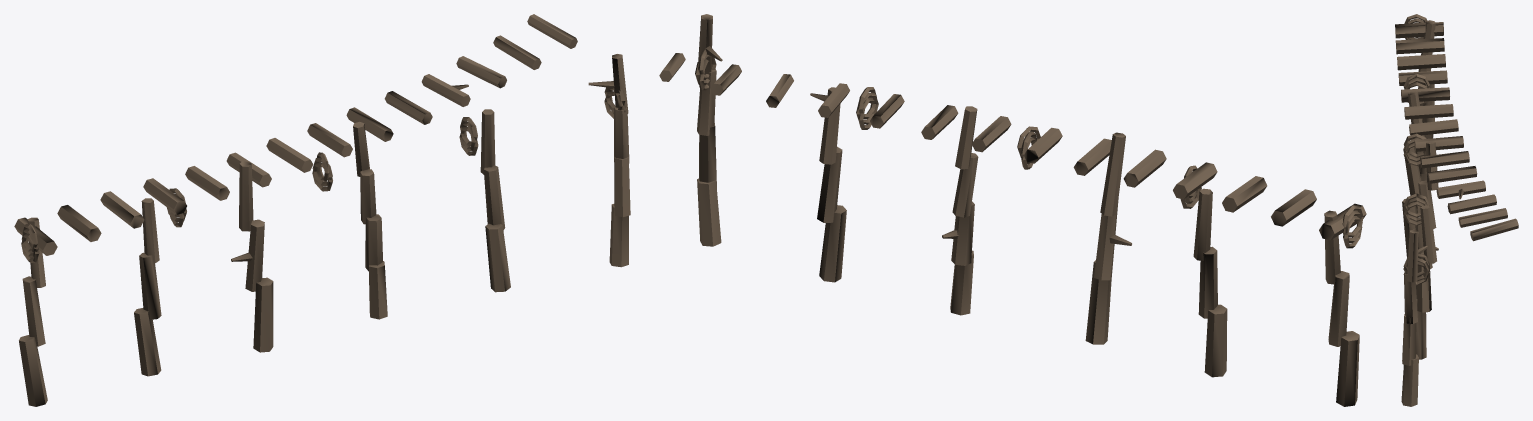
File: post.glb
3 renders of one model, left to right at view 1: azimuth 30°, elevation 25°; view 2: azimuth 150°, elevation 25°; view 3: azimuth 270°, elevation 25°, orthographic. The views are drawn at different scales.
Visible parts, largest first — view 1: post; view 2: post; view 3: post.
Part boxes in pixels (<box>): post: <box>14,14,630,406</box>; post: <box>659,14,1366,406</box>; post: <box>1395,14,1518,406</box>.
Bounding box in the file's own units: 4.13 × 1.37 × 0.8743.
